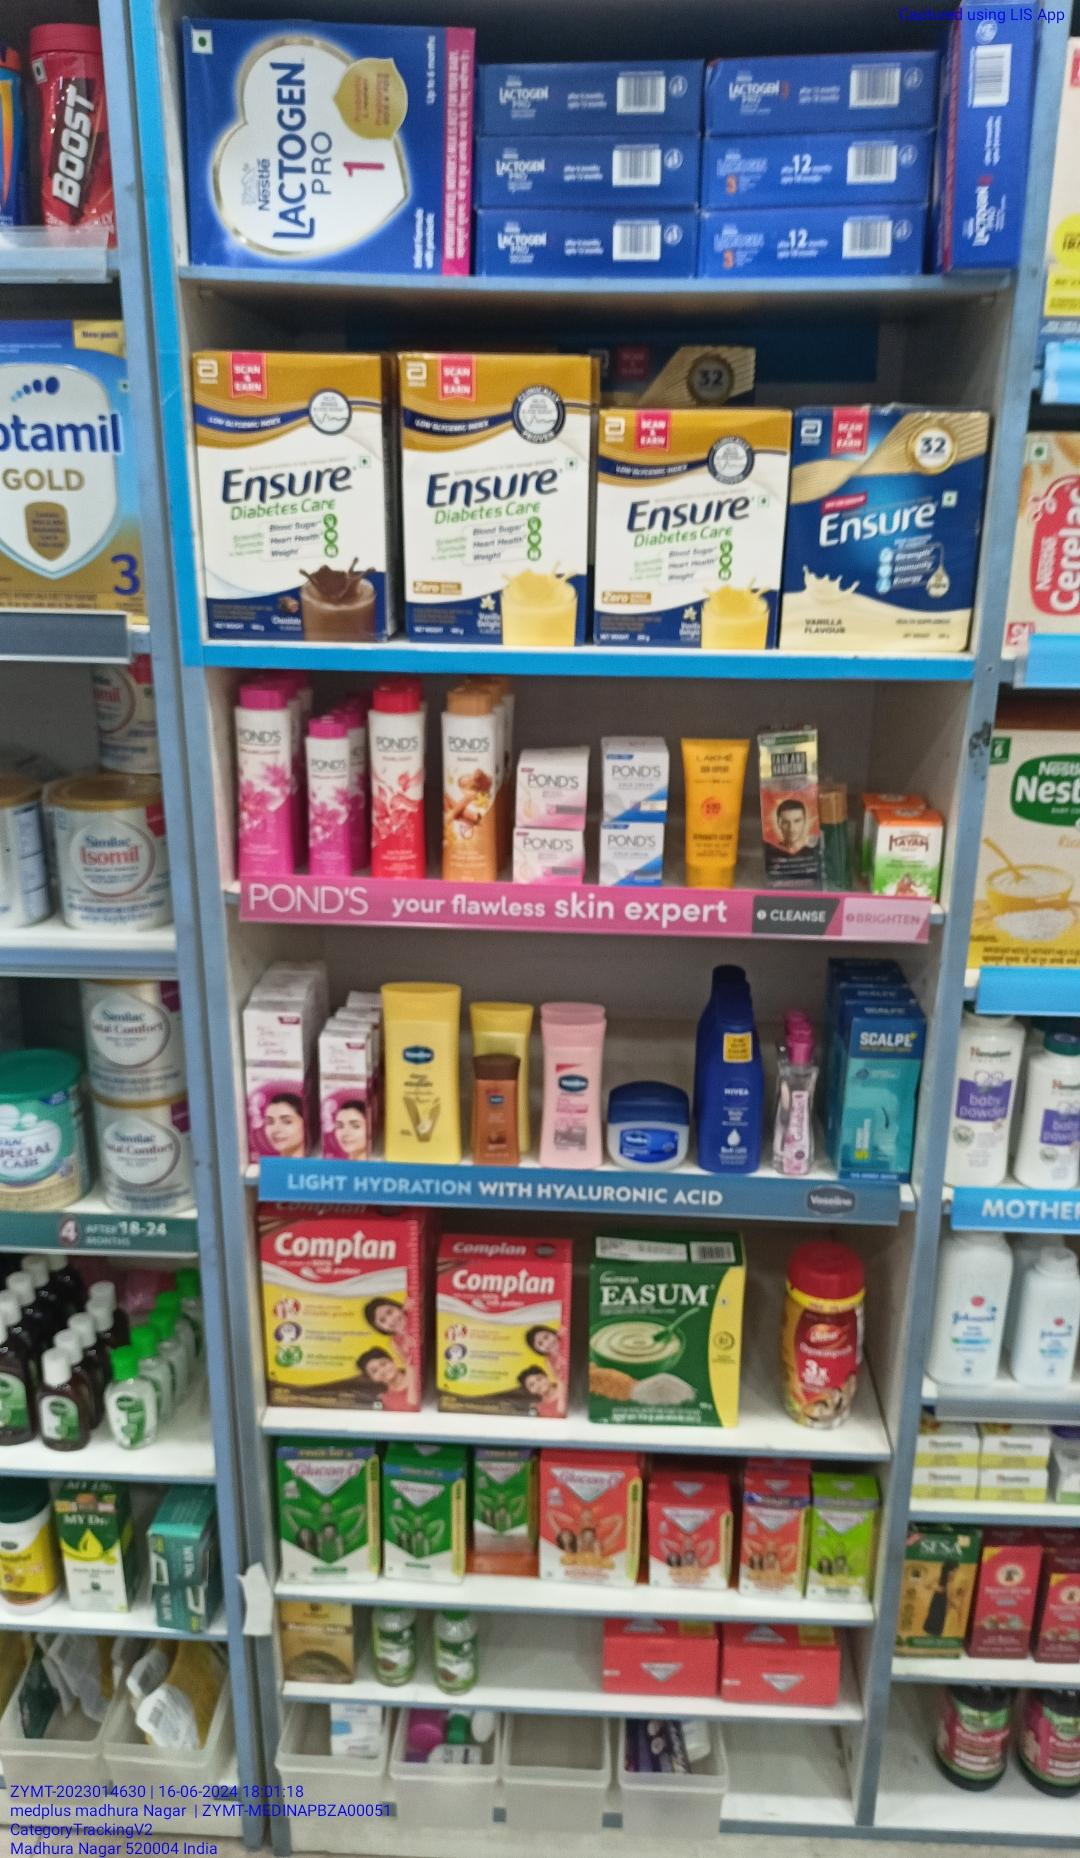COMPLAN_CHOCOLATE_200_GMS_PACK: (437, 1254, 575, 1416)
COMPLAN_CHOCOLATE_500_GMS_PACK: (262, 1219, 420, 1411)
ENSURE_VANILLA_400_G_PACK: (793, 406, 971, 656)
